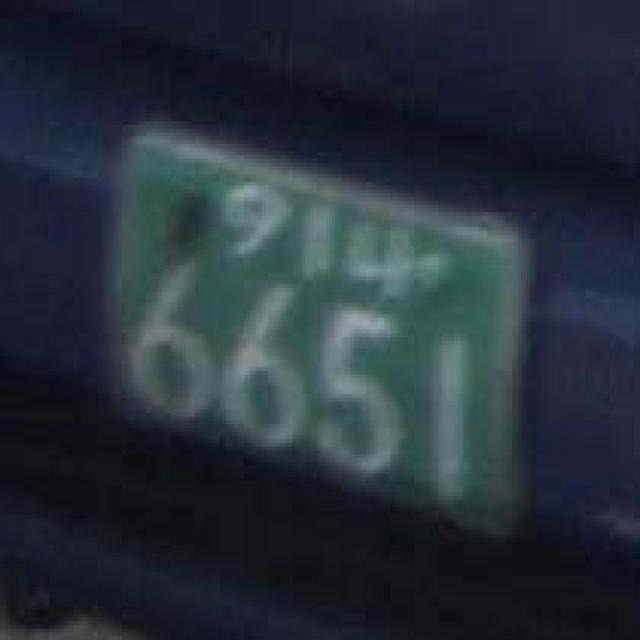illegal_plate: (90, 109, 547, 556)
